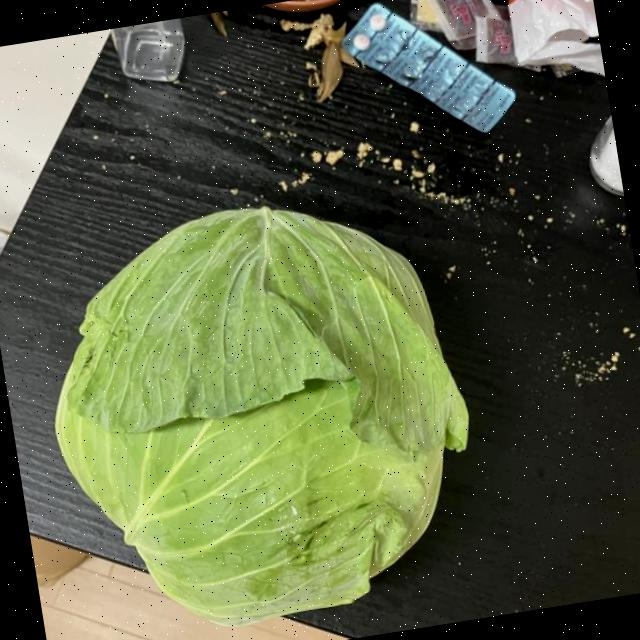cabbage: (21, 175, 504, 640)
